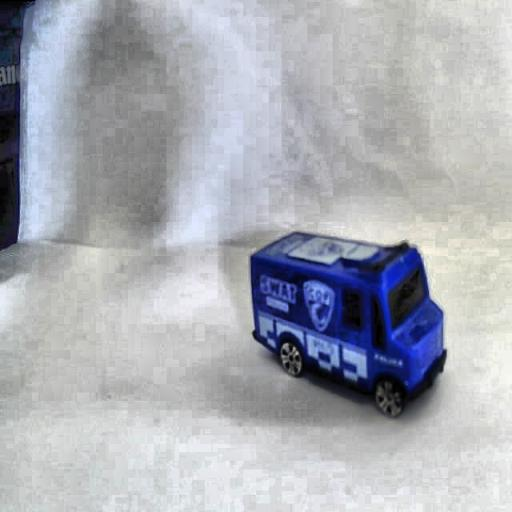police car: (246, 220, 450, 421)
